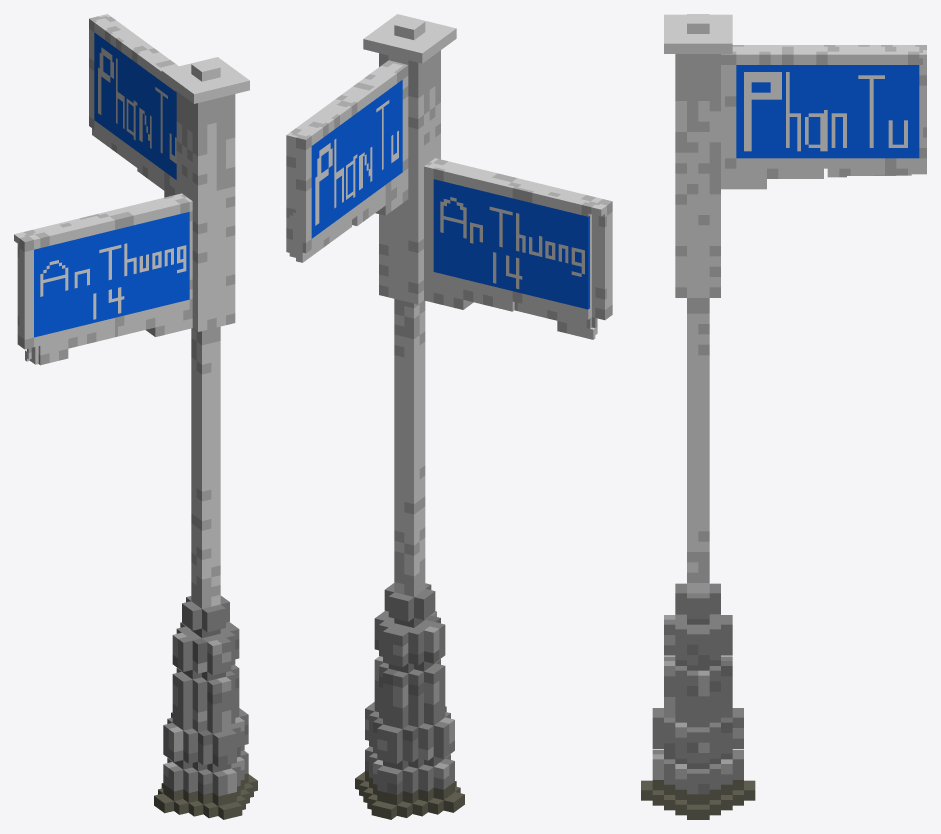
The model's file is Phan_Tu_And_An_Thoung_14.obj.
3 renders of one model, left to right at view 1: azimuth 30°, elevation 25°; view 2: azimuth 150°, elevation 25°; view 3: azimuth 270°, elevation 25°, orthographic. The views are drawn at different scales.
Size of the model in its own units: 7.5 by 22.5 by 7.5.
1 material, 1 textured.
